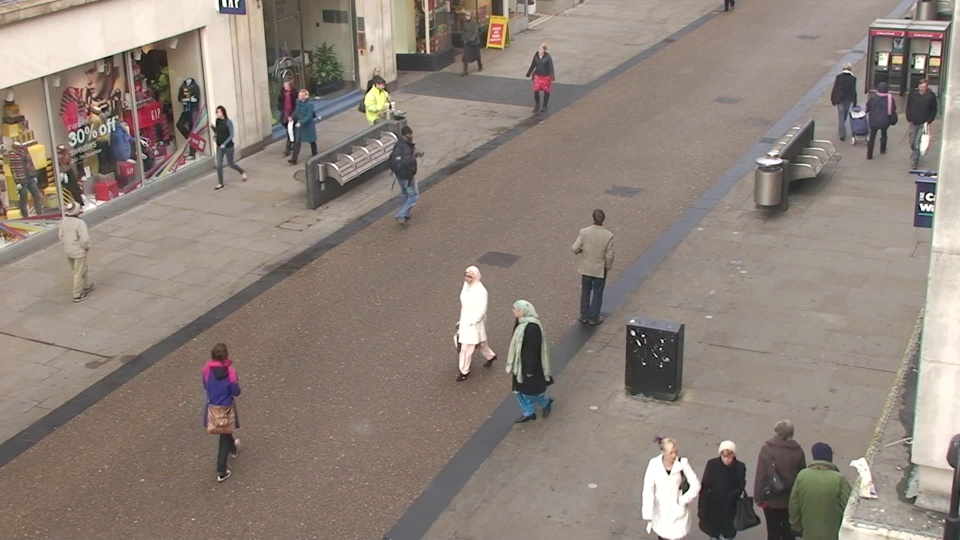pedestrian: (196, 332, 256, 482), (752, 407, 813, 540), (786, 428, 850, 540), (694, 427, 755, 540), (639, 426, 699, 540), (499, 292, 544, 435), (53, 196, 106, 311), (453, 258, 497, 392), (579, 204, 617, 324), (898, 77, 941, 167), (859, 81, 898, 171), (391, 123, 426, 220), (207, 102, 243, 192), (828, 59, 863, 142), (290, 84, 322, 169), (274, 75, 306, 158), (367, 74, 397, 157), (363, 63, 393, 144), (530, 41, 555, 115), (461, 6, 484, 71)
